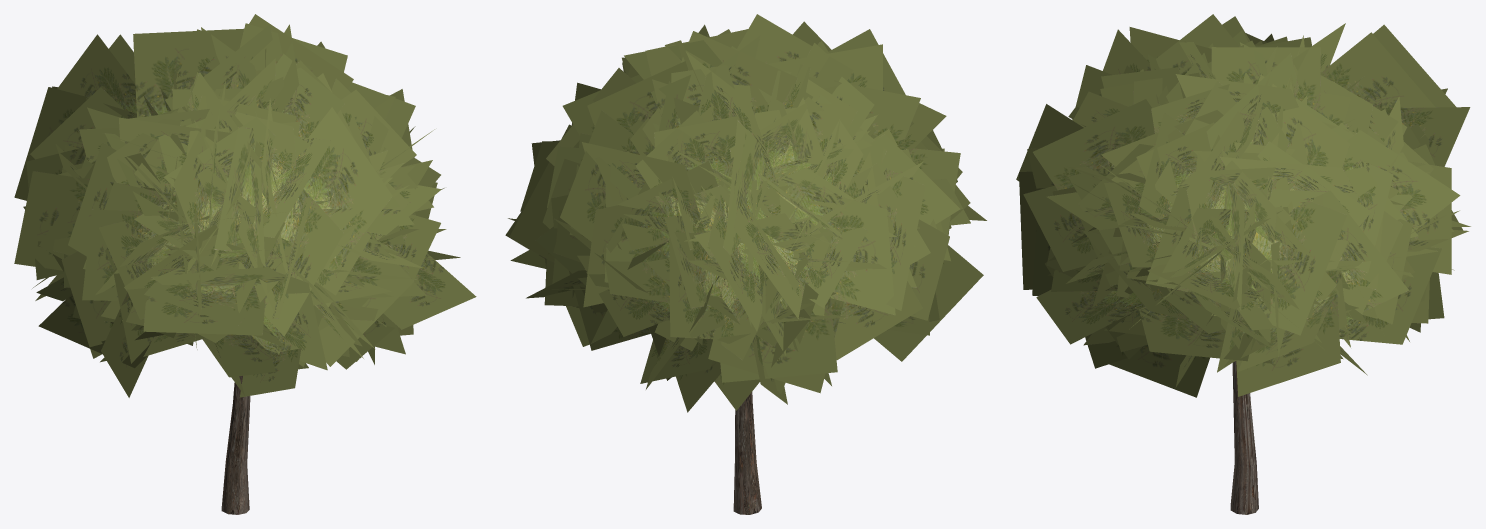
Rendered from agac_lod.glb.
The picture shows the model from 3 angles, left to right: view 1: azimuth 30°, elevation 25°; view 2: azimuth 150°, elevation 25°; view 3: azimuth 270°, elevation 25°; orthographic projection.
Visible parts, largest first — view 1: agac; view 2: agac; view 3: agac.
Part boxes in pixels (x1,y1,x2,y2): agac: [14, 14, 476, 514]; agac: [505, 14, 986, 514]; agac: [1016, 14, 1470, 514].
Size of the model in its own units: 8.17 by 9.33 by 8.07.
1 material, 1 textured.
